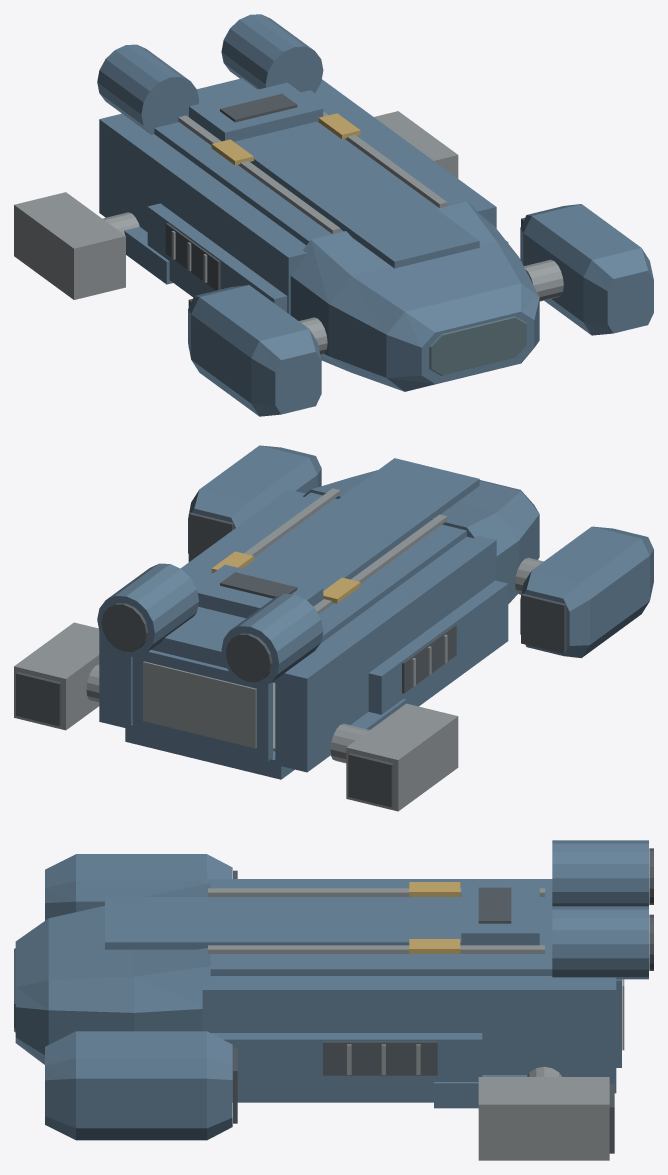
File: shipit_blue_off.glb
3 views of the same model, one above another, from view 1: azimuth 30°, elevation 25°; view 2: azimuth 150°, elevation 25°; view 3: azimuth 270°, elevation 25° (orthographic). The views are drawn at different scales.
Parts seen in each view (by area): view 1: body_0, engine_L_pivot_housing, engine_R_pivot_housing, rear_L_pivot_housing, body_1, body_2, body_4, rear_R_pivot_housing, body_3; view 2: body_0, engine_L_pivot_housing, rear_L_pivot_housing, cargo_ramp_detail, body_4, engine_R_pivot_housing, rear_R_pivot_housing, body_1, cargo_ramp_panel, engine_L_pivot_nozzle, rear_L_pivot_nozzle, rear_R_pivot_nozzle (+2 smaller); view 3: body_0, engine_R_pivot_housing, rear_R_pivot_housing, engine_L_pivot_housing, body_4, body_1, body_3, cargo_ramp_panel.
Part boxes in pixels (x1,y1,x2,y2): body_0: (97,14,539,391); engine_L_pivot_housing: (188,285,321,416); engine_R_pivot_housing: (520,204,653,335); rear_L_pivot_housing: (14,192,125,299); body_1: (102,111,563,354); body_2: (429,316,526,375); body_4: (165,94,297,290); rear_R_pivot_housing: (374,111,458,178); body_3: (211,113,360,165); body_0: (97,458,539,779); engine_L_pivot_housing: (520,526,653,658); rear_L_pivot_housing: (346,703,458,811); cargo_ramp_detail: (143,661,256,748); body_4: (101,572,456,693); engine_R_pivot_housing: (188,445,321,553); rear_R_pivot_housing: (14,622,99,730); body_1: (86,488,543,763); cargo_ramp_panel: (132,650,272,760); engine_L_pivot_nozzle: (521,593,566,653); rear_L_pivot_nozzle: (348,753,393,807); rear_R_pivot_nozzle: (16,672,61,726); body_0: (15,840,648,1108); engine_R_pivot_housing: (45,1031,232,1140); rear_R_pivot_housing: (478,1077,609,1160); engine_L_pivot_housing: (45,854,232,920); body_4: (323,848,653,1075); body_1: (208,888,561,1076); body_3: (409,882,460,953); cargo_ramp_panel: (616,979,621,1067).
Size of the model in its own units: 2.76 by 1.1 by 3.51.
